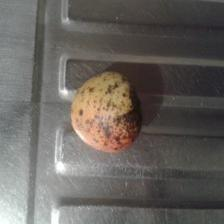Mango Semirotten: (68, 71, 148, 152)
